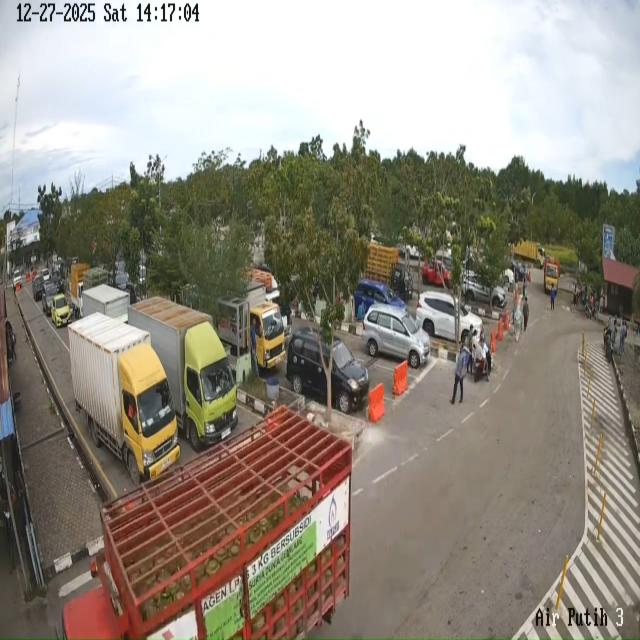Golongan IVA: (286, 327, 370, 413), (362, 304, 430, 369), (416, 290, 483, 342), (354, 279, 406, 313), (463, 272, 506, 308), (50, 294, 72, 328), (42, 282, 60, 316), (32, 274, 45, 302)
Golongan VB: (61, 406, 352, 640), (68, 313, 180, 485), (128, 297, 238, 451), (216, 280, 286, 369), (510, 240, 545, 268), (544, 257, 560, 293)
